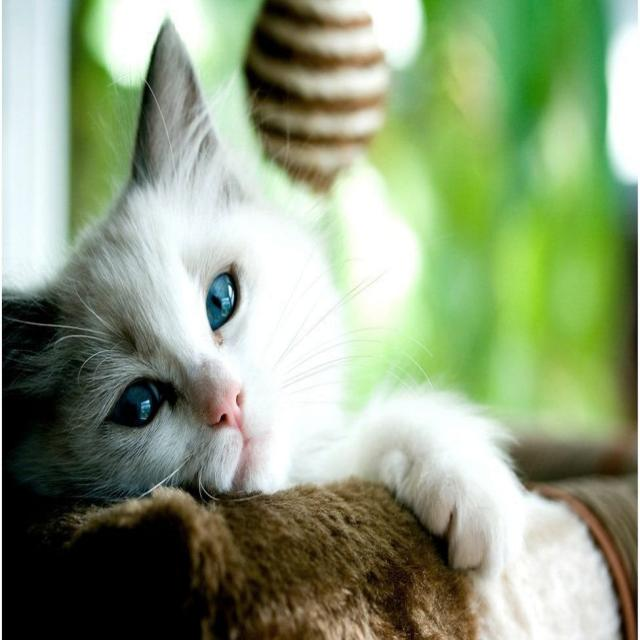cat: (3, 21, 525, 579)
